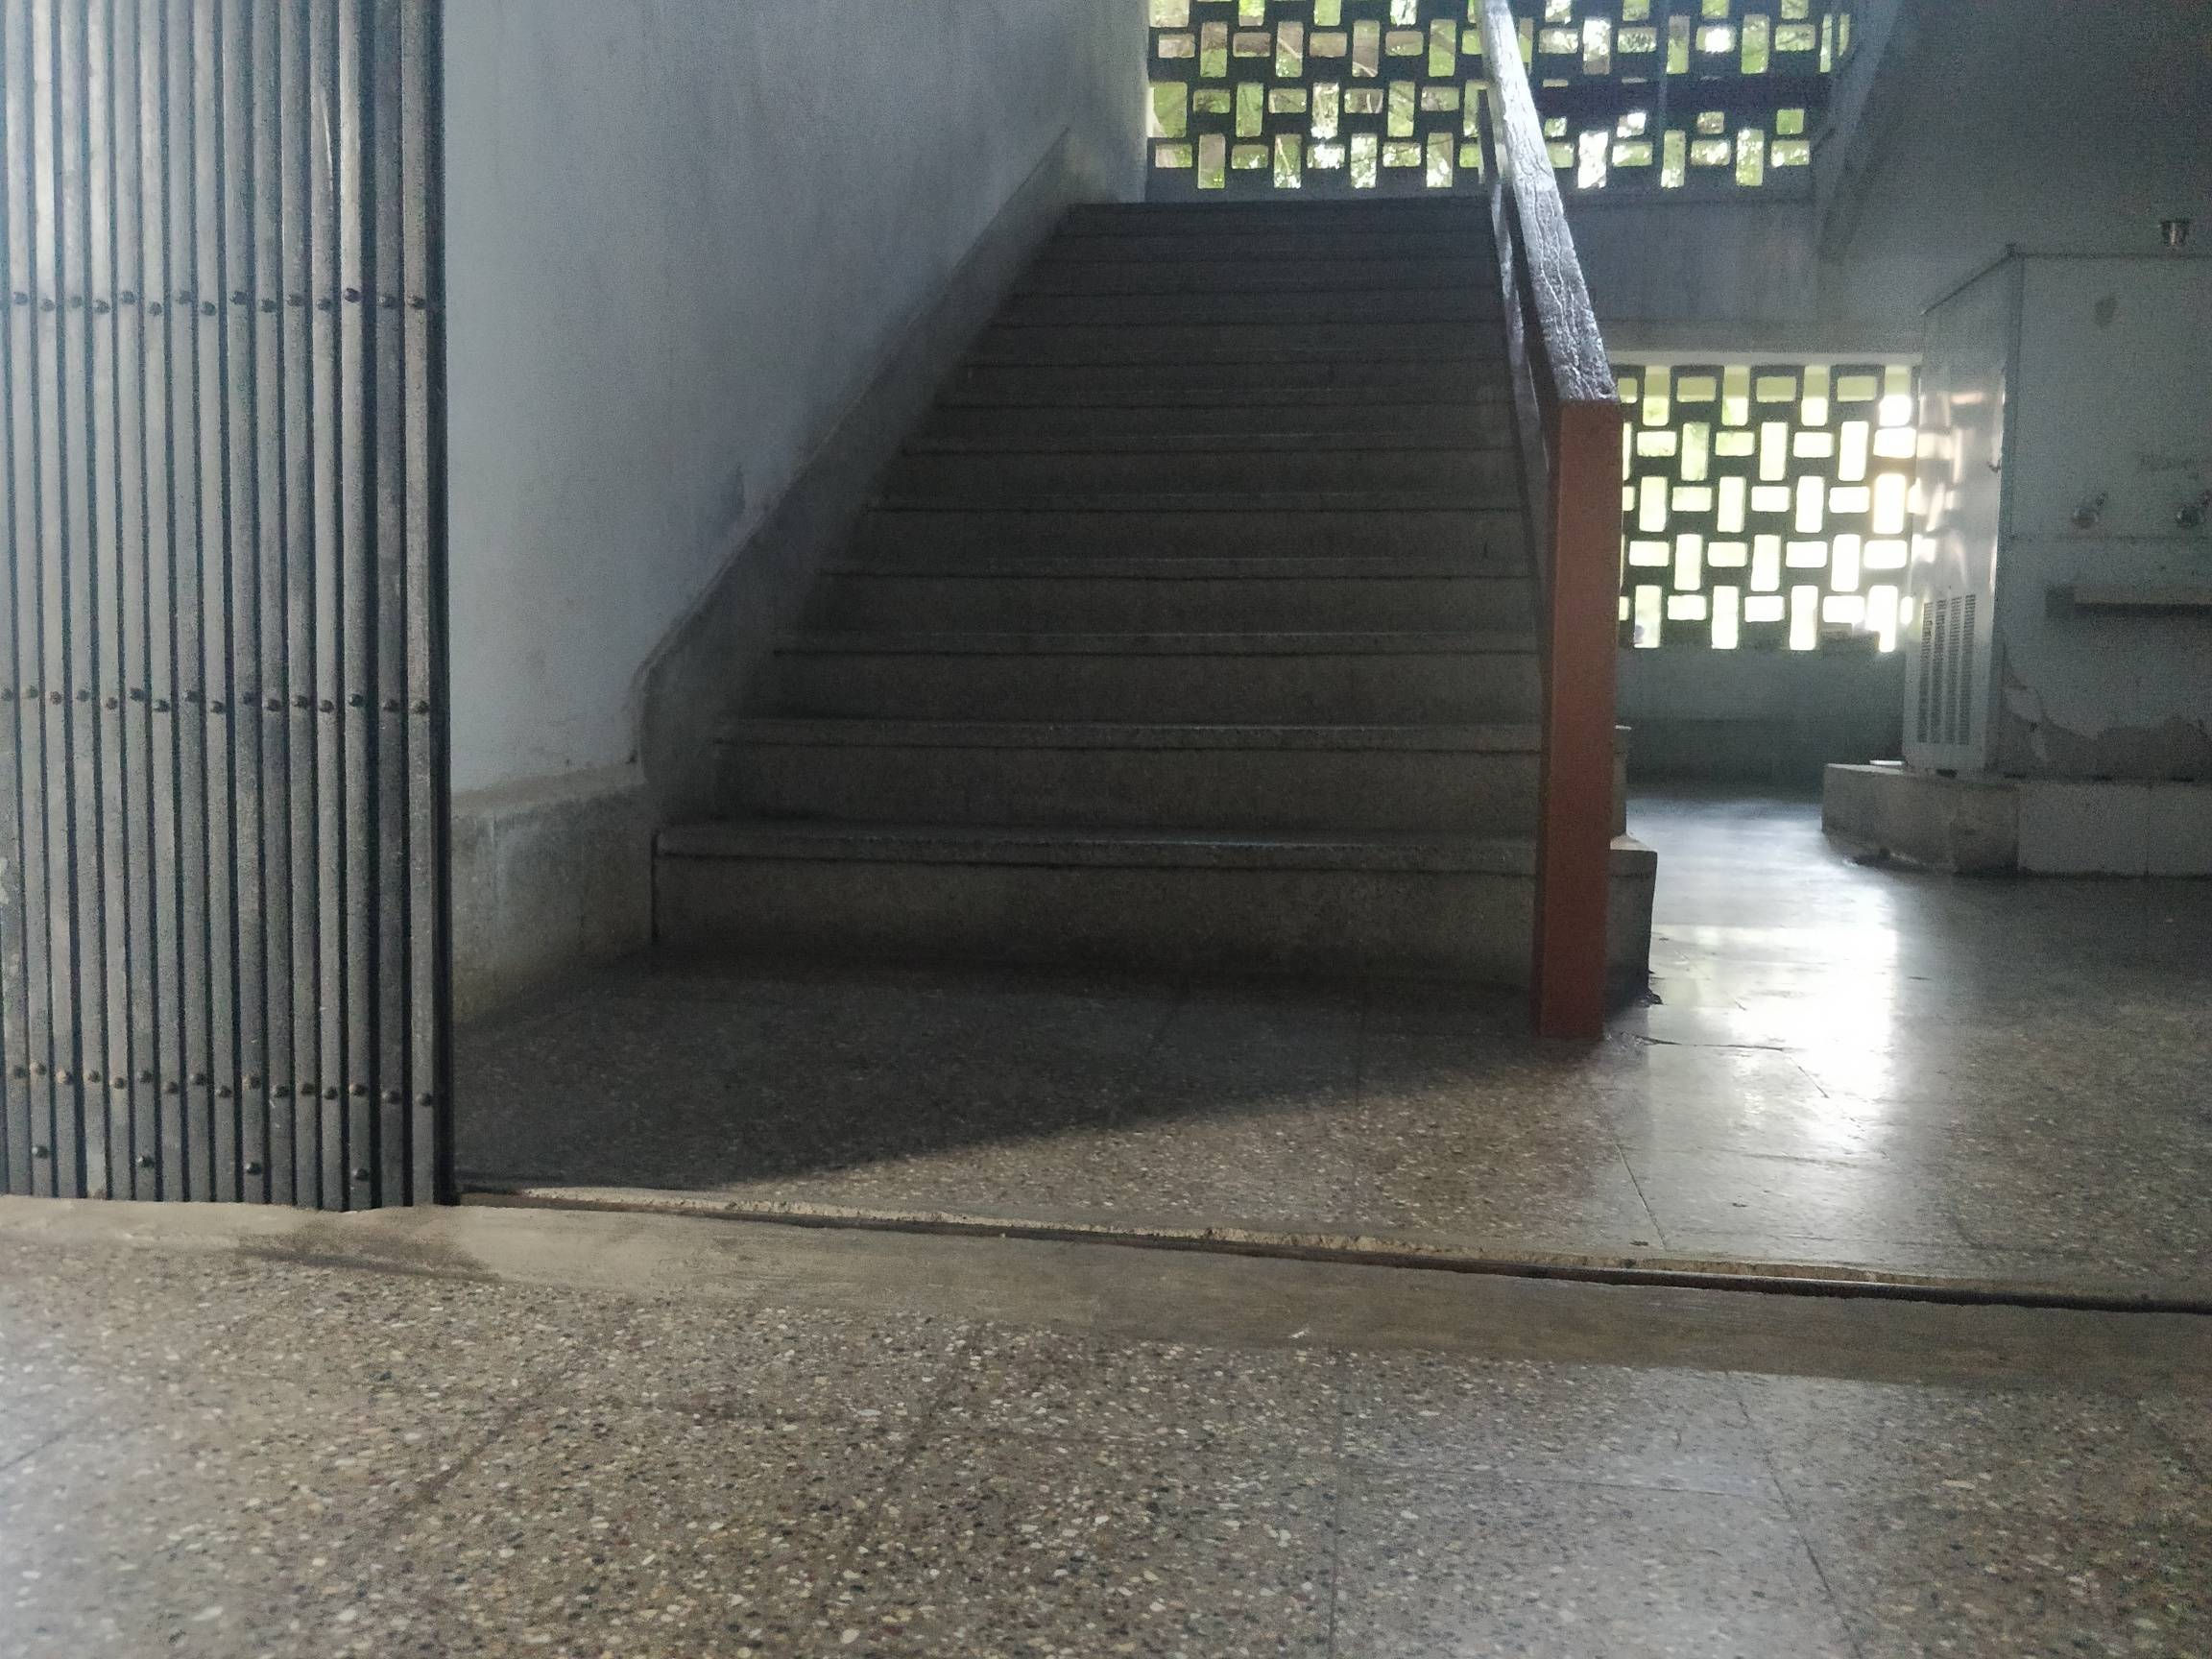stairs_up: (644, 171, 1540, 1025)
